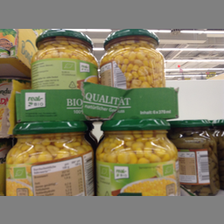corn: (92, 120, 180, 197), (6, 122, 94, 195), (98, 29, 168, 88), (32, 30, 98, 85)
